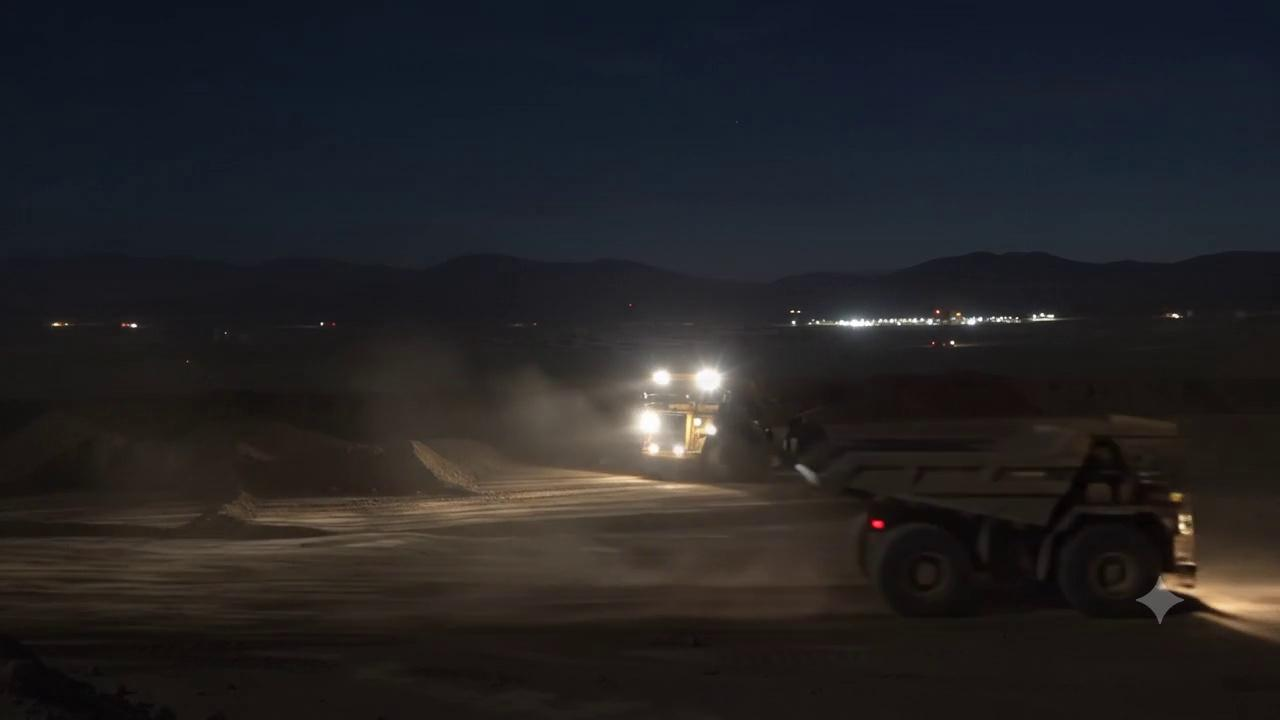CAEX: (796, 417, 1199, 622)
